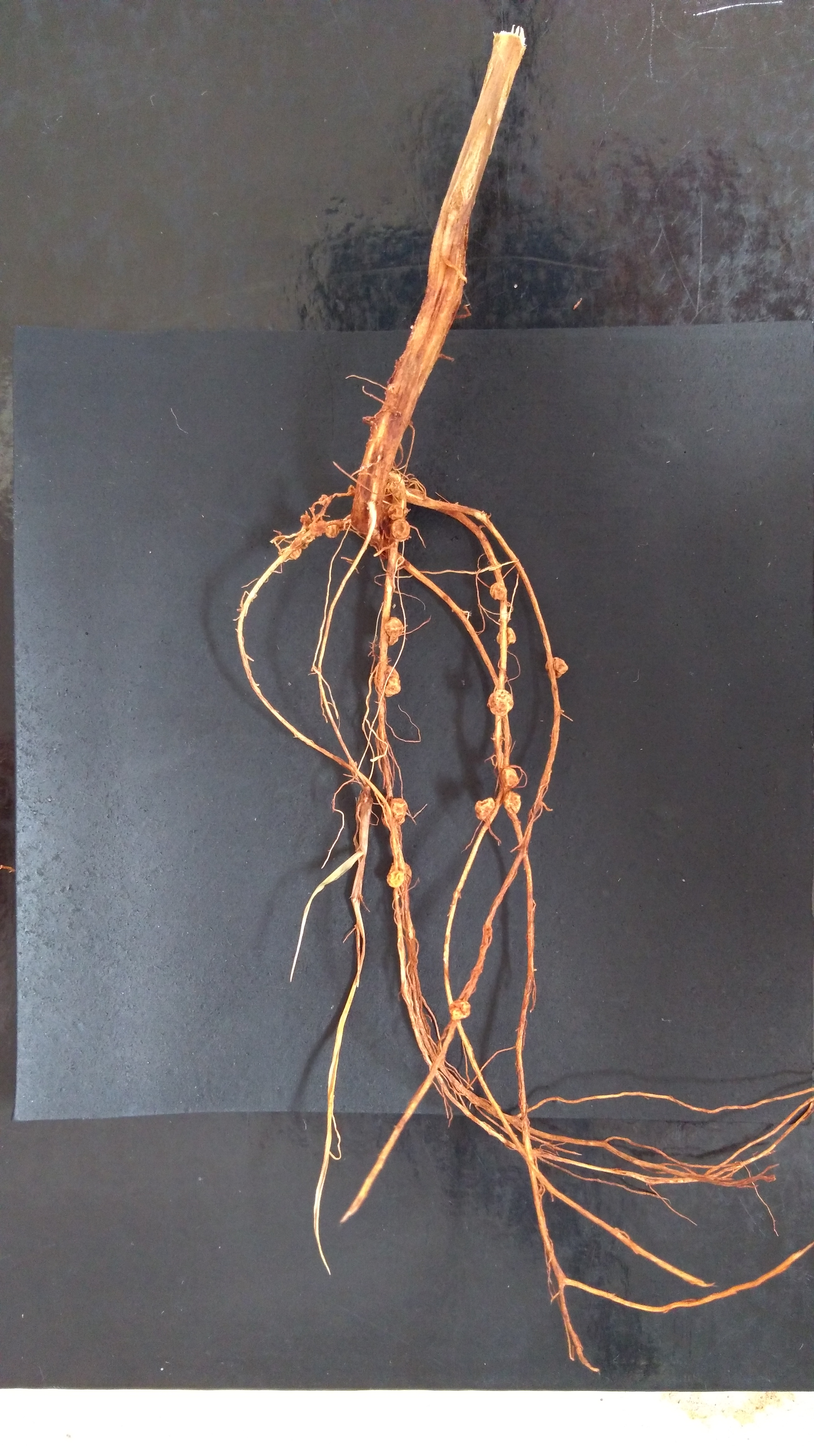nodule: (373, 665, 402, 697), (381, 797, 409, 827), (487, 688, 514, 716), (387, 861, 413, 887), (384, 615, 405, 646), (545, 656, 569, 678), (474, 797, 495, 820), (495, 626, 517, 647), (448, 999, 471, 1019), (277, 544, 303, 561), (391, 518, 411, 540), (500, 765, 519, 788), (503, 790, 521, 814), (489, 581, 508, 602), (387, 480, 406, 500), (307, 520, 327, 538), (299, 531, 315, 549), (324, 523, 341, 539), (386, 504, 403, 520), (318, 494, 331, 506), (299, 514, 312, 524), (346, 483, 356, 496), (369, 527, 382, 537), (367, 518, 378, 529), (403, 507, 410, 515), (409, 324, 414, 329)
